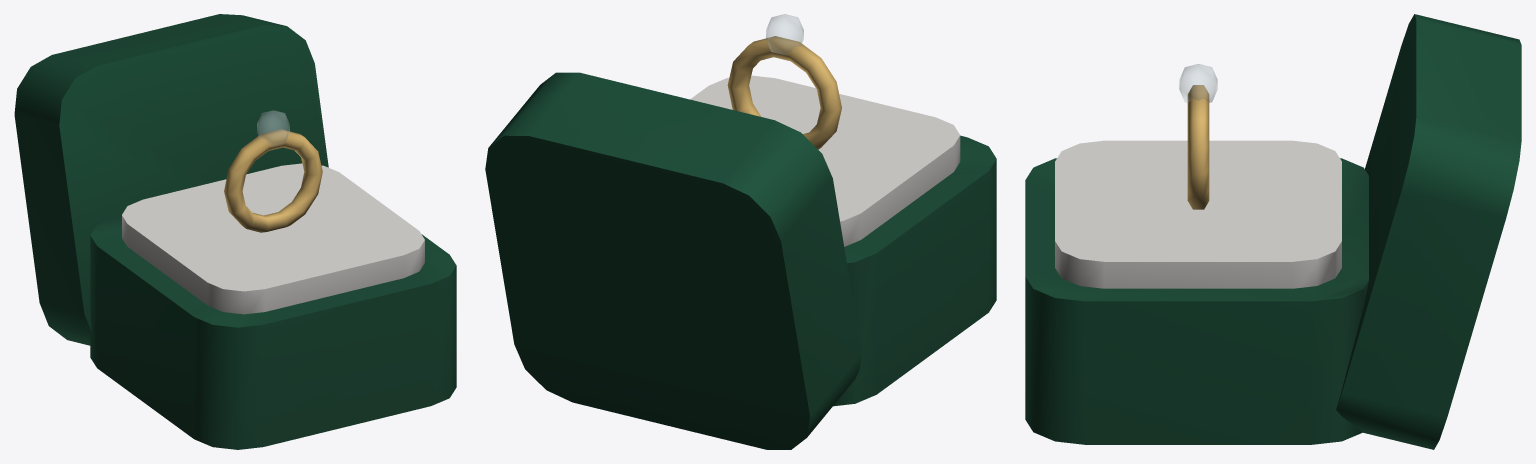
Rendered from hop-nhan.glb.
3 views of the same model, side by side, from view 1: azimuth 30°, elevation 25°; view 2: azimuth 150°, elevation 25°; view 3: azimuth 270°, elevation 25° (orthographic). The views are drawn at different scales.
Parts seen in each view (by area): view 1: hop-nhan; view 2: hop-nhan; view 3: hop-nhan.
Part boxes in pixels (x1,y1,x2,y2): hop-nhan: (14,14,456,449); hop-nhan: (485,14,996,449); hop-nhan: (1025,14,1521,449).
Bounding box in the file's own units: 0.07 × 0.074 × 0.1003.
